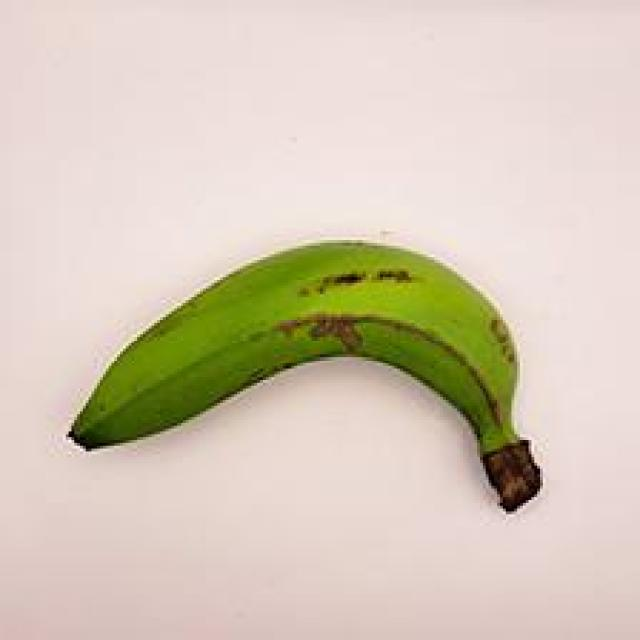Raw: (51, 213, 572, 550)
